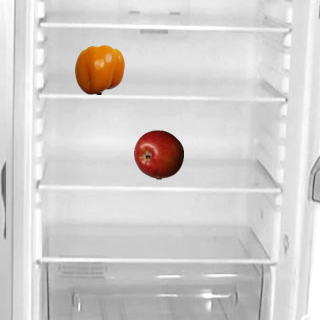Apple Braeburn: (133, 129, 183, 179)
Pepper Yellow: (74, 44, 124, 94)
